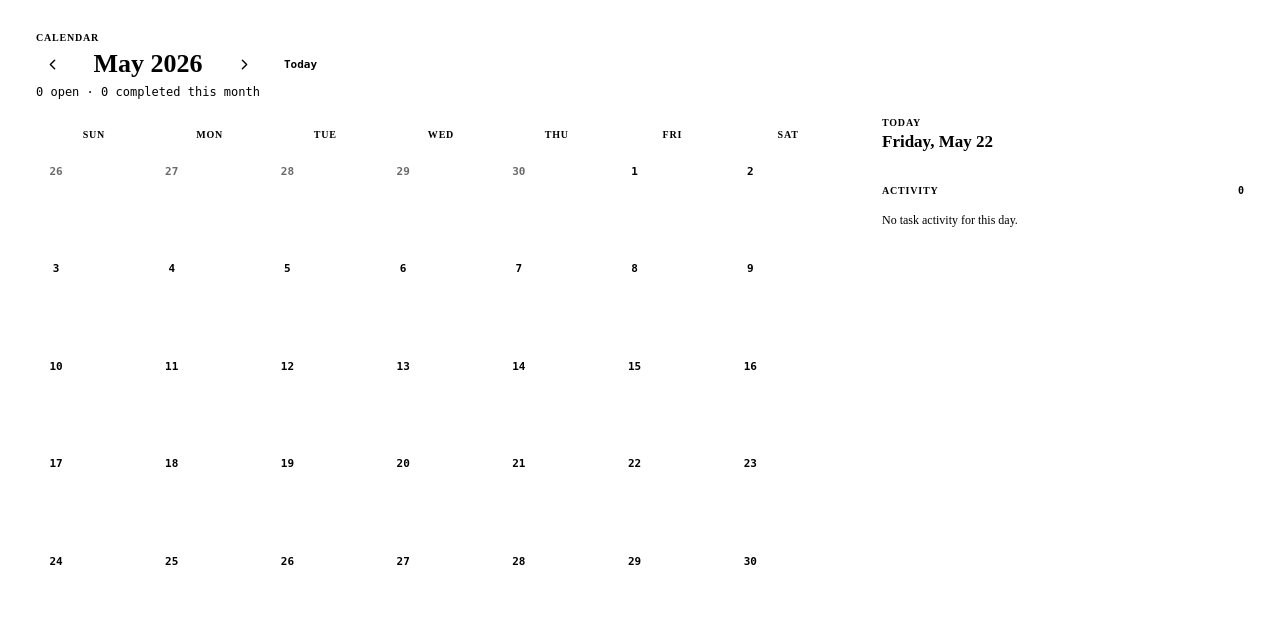
Test: TodayView calendar › navigates months and returns to today
Click the button named "Next month".
click(244, 64)  # box [228,48,260,80]
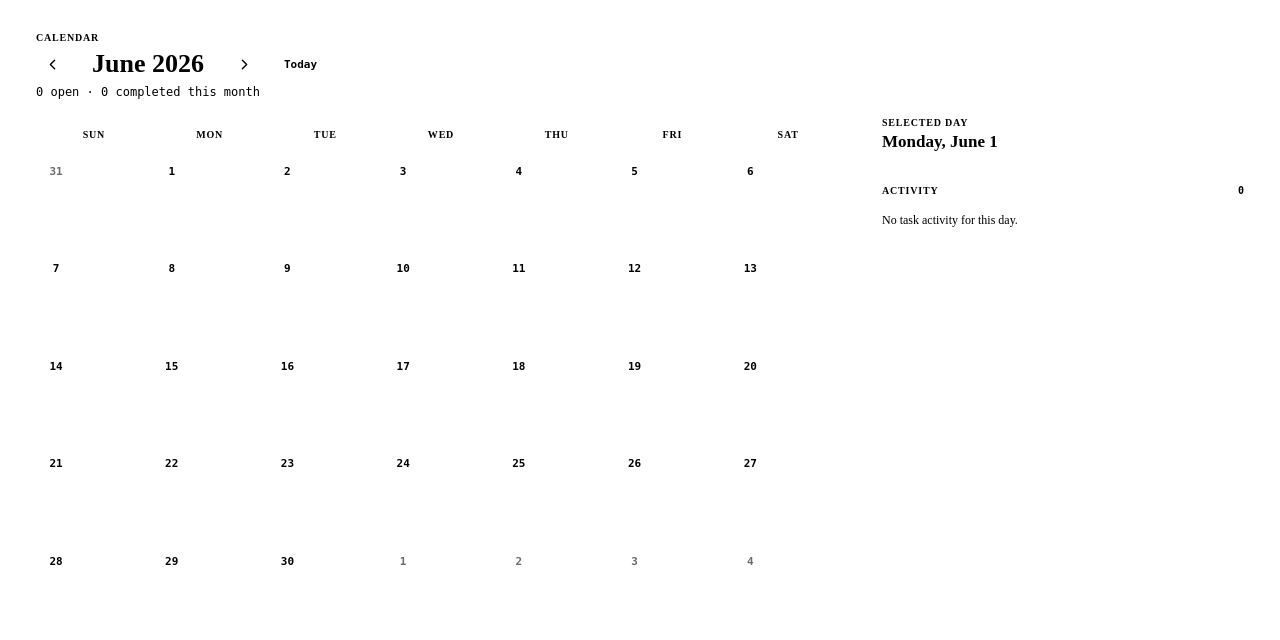
Expected: the heading "June 2026" is shown, [92,49,204,78]
Click the button "Today".
click(301, 64)  # box [272,48,329,80]
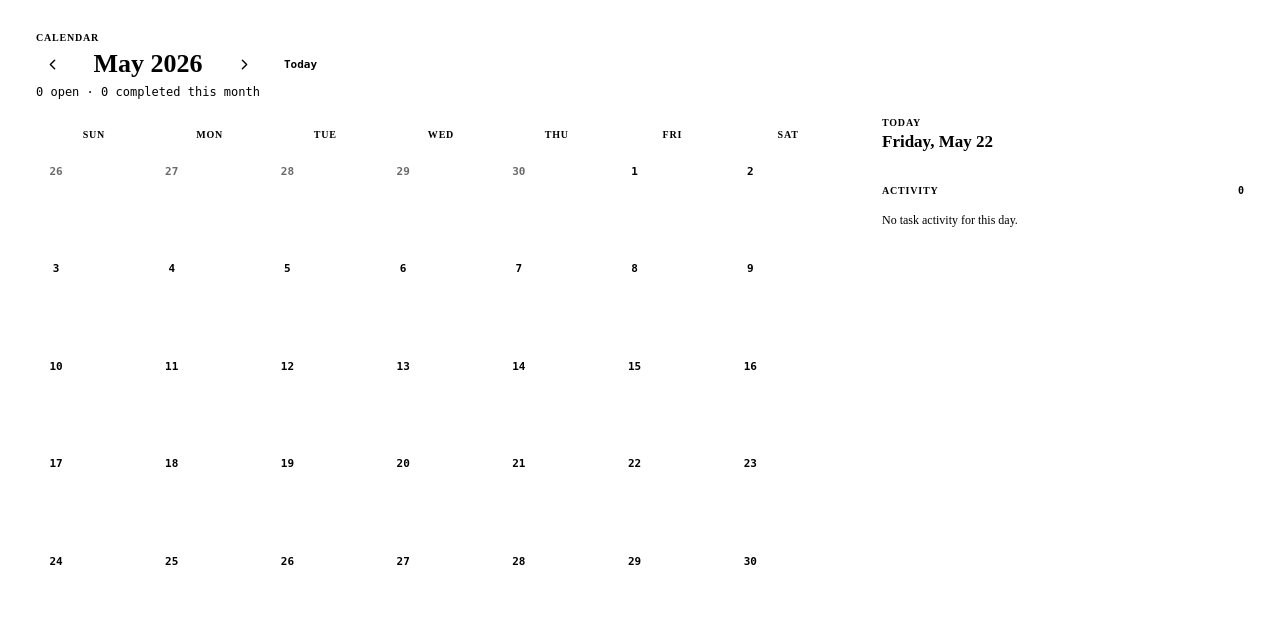
Expected: the heading "May 2026" is shown, [94,49,202,78]
Expected: the heading "Friday, May 22" is shown, [882,132,993,151]
